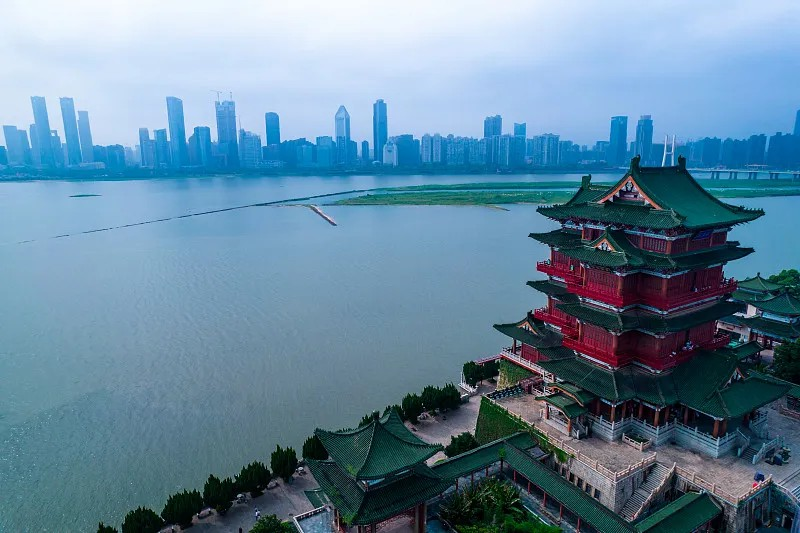Teng: (492, 158, 791, 449)
